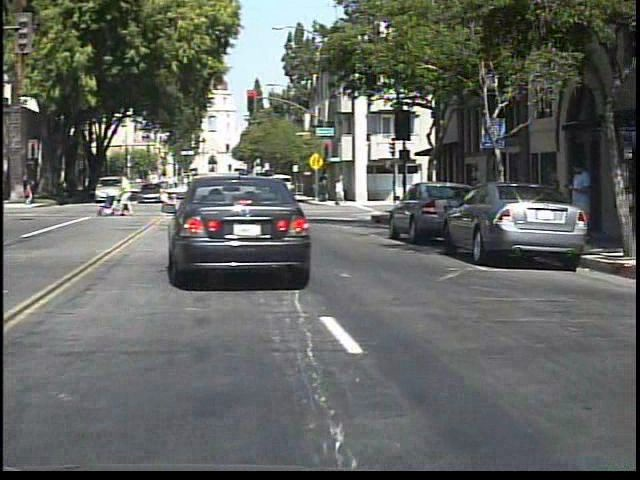person: (569, 155, 598, 257), (122, 170, 144, 217), (23, 174, 40, 208), (84, 174, 85, 205)
